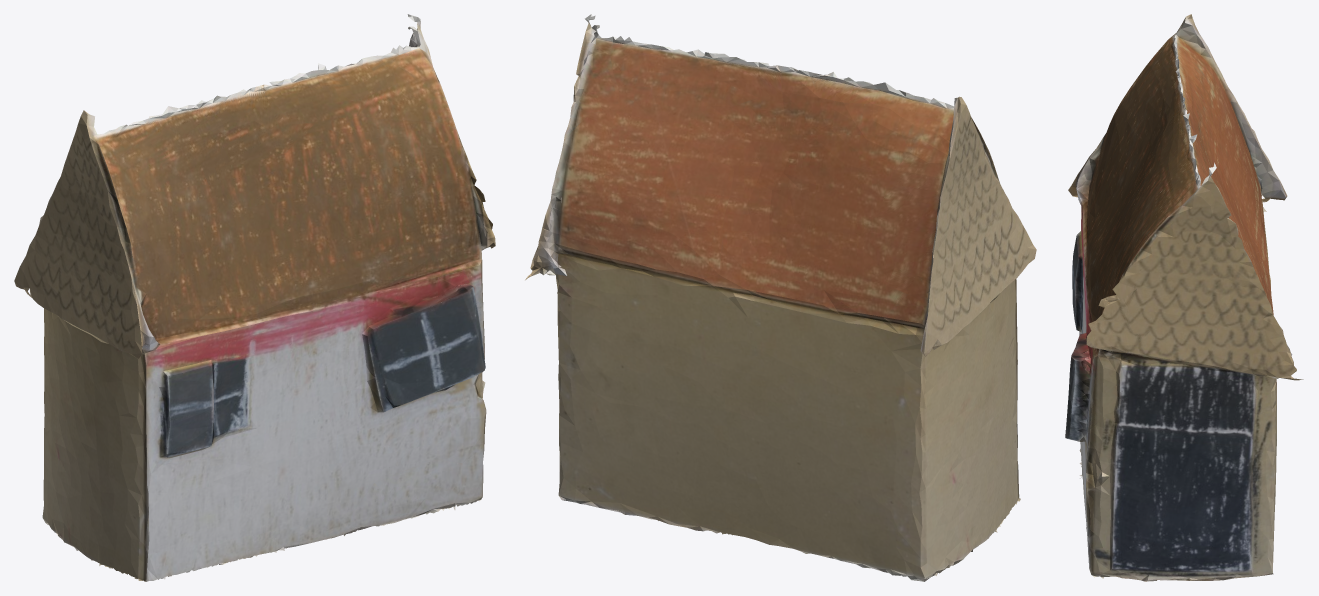
The picture shows the model from 3 angles, left to right: view 1: azimuth 30°, elevation 25°; view 2: azimuth 150°, elevation 25°; view 3: azimuth 270°, elevation 25°; orthographic projection. The views are drawn at different scales.
Parts seen in each view (by area): view 1: Object_0.001; view 2: Object_0.001; view 3: Object_0.001.
Boxes of the visible parts, x1,y1,x2,y2 form: Object_0.001: [14, 14, 495, 581]; Object_0.001: [525, 14, 1036, 581]; Object_0.001: [1065, 14, 1303, 581].
Size of the model in its own units: 18.27 by 20.99 by 10.86.
Materials: 1 (1 with a texture image).
